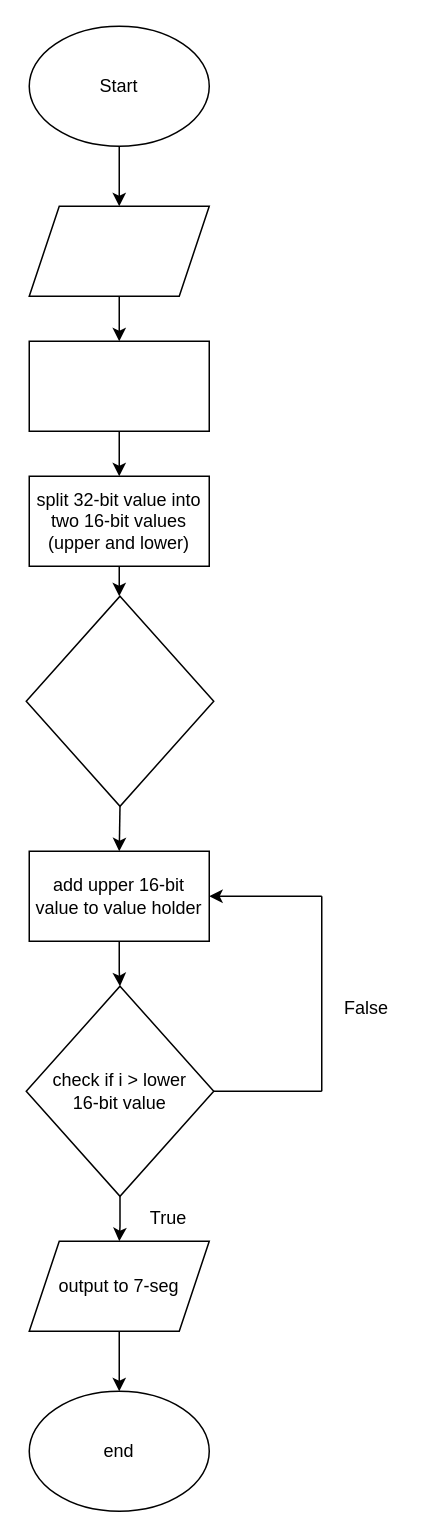
Some shapes in this 438 by 1538 pixel diagram are drawn without their labels. Here are the shapes that lost their labels. From the top down, the box of each, then its label:
(28, 205, 209, 296): read switch data
(28, 340, 209, 431): initialize counter (i) and value holder
(25, 595, 214, 806): i < lower 16-bit value
